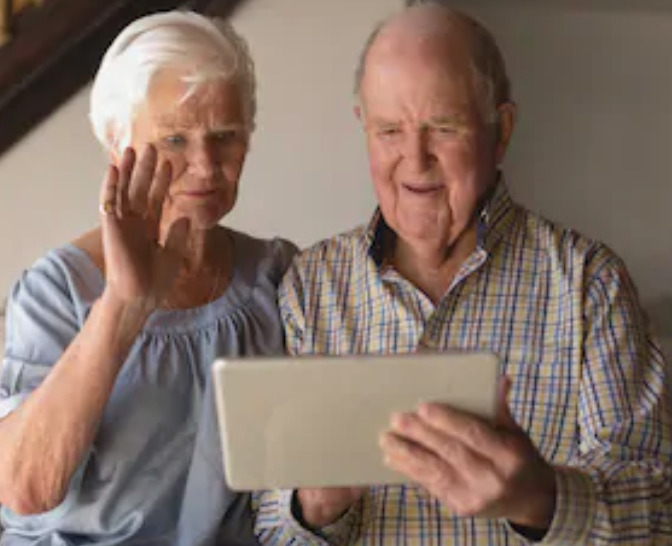Bad: (4, 4, 659, 355)
